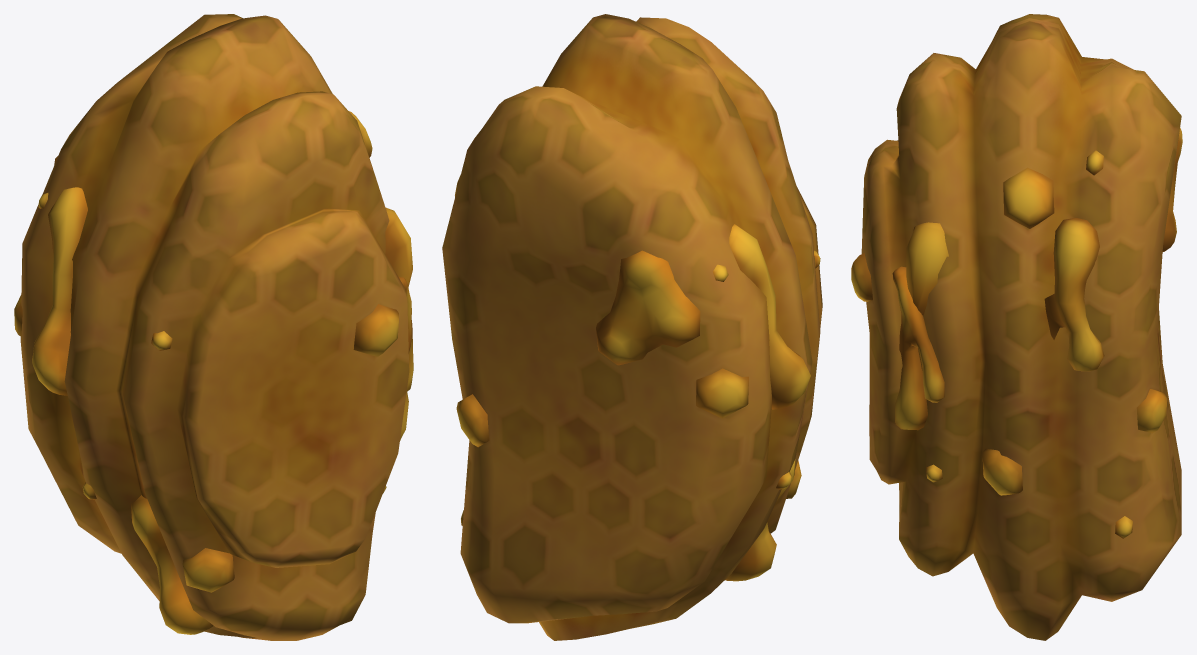
File: hvs_farmables_beehive.fbx
3 views of the same model, side by side, from view 1: azimuth 30°, elevation 25°; view 2: azimuth 150°, elevation 25°; view 3: azimuth 270°, elevation 25° (orthographic). The views are drawn at different scales.
Parts seen in each view (by area): view 1: hvs_farmables_beehive; view 2: hvs_farmables_beehive; view 3: hvs_farmables_beehive.
Boxes of the visible parts, box(x1,y1,x2,y2) form: hvs_farmables_beehive: box(14, 14, 413, 640); hvs_farmables_beehive: box(442, 14, 822, 640); hvs_farmables_beehive: box(851, 14, 1182, 640).
Bounding box in the file's own units: 3.95 × 6.93 × 3.56.
